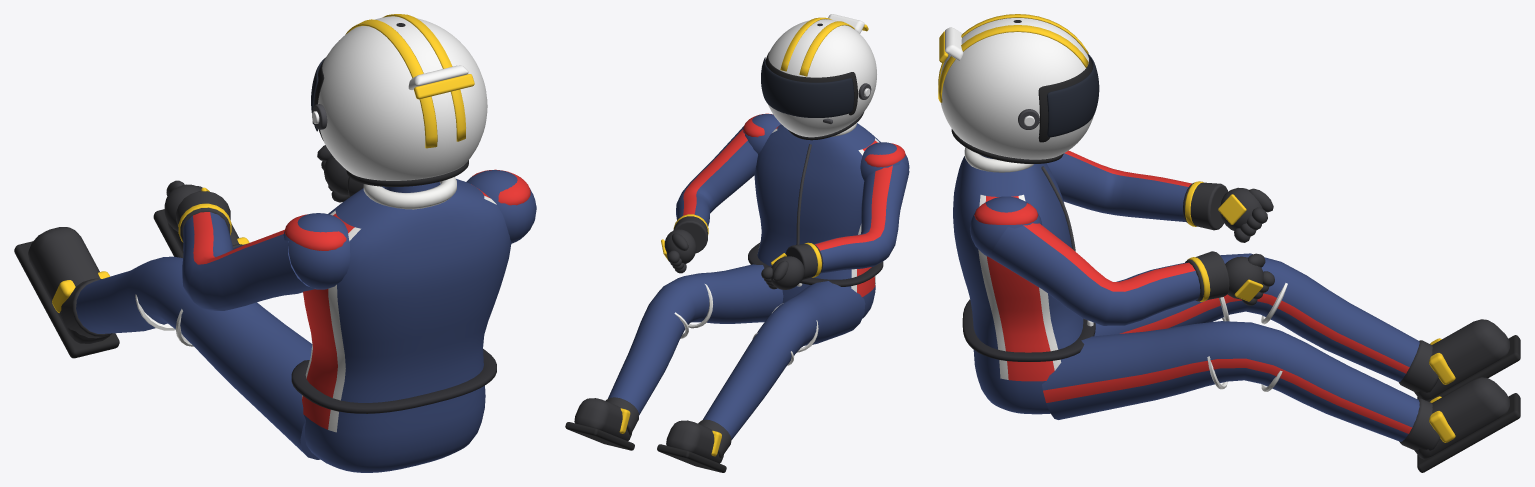
Rendered from driver.glb.
3 views of the same model, side by side, from view 1: azimuth 30°, elevation 25°; view 2: azimuth 150°, elevation 25°; view 3: azimuth 270°, elevation 25° (orthographic). The views are drawn at different scales.
Visible parts, largest first — view 1: driver, driver_head; view 2: driver, driver_head; view 3: driver, driver_head.
Part boxes in pixels (x1,y1,x2,y2): driver: (14, 145, 536, 472); driver_head: (311, 14, 487, 186); driver: (565, 113, 909, 472); driver_head: (761, 14, 876, 140); driver: (953, 147, 1520, 472); driver_head: (938, 14, 1099, 163).
Size of the model in its own units: 0.6832 by 1 by 1.27.
